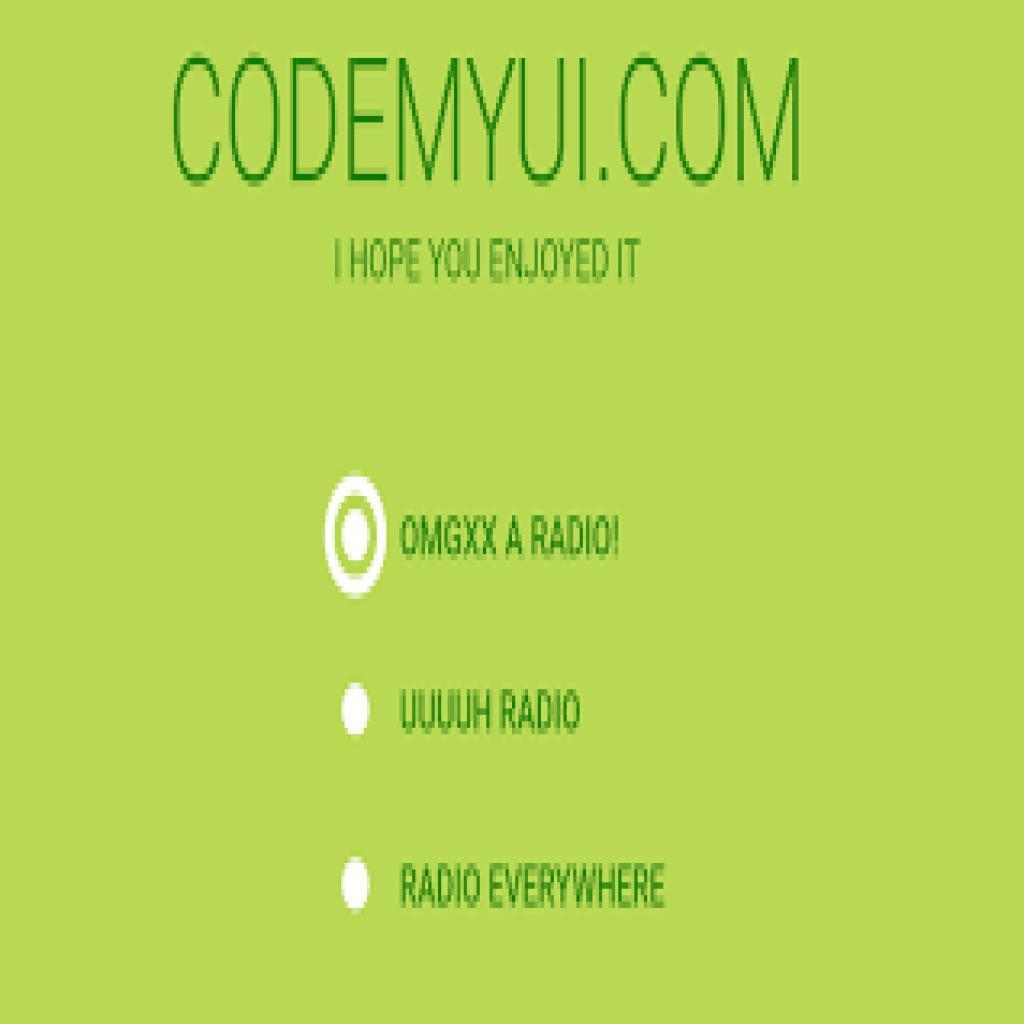label: (395, 514, 628, 566), (400, 681, 599, 741)
radio: (327, 472, 390, 603), (340, 684, 375, 745), (342, 857, 373, 916)
